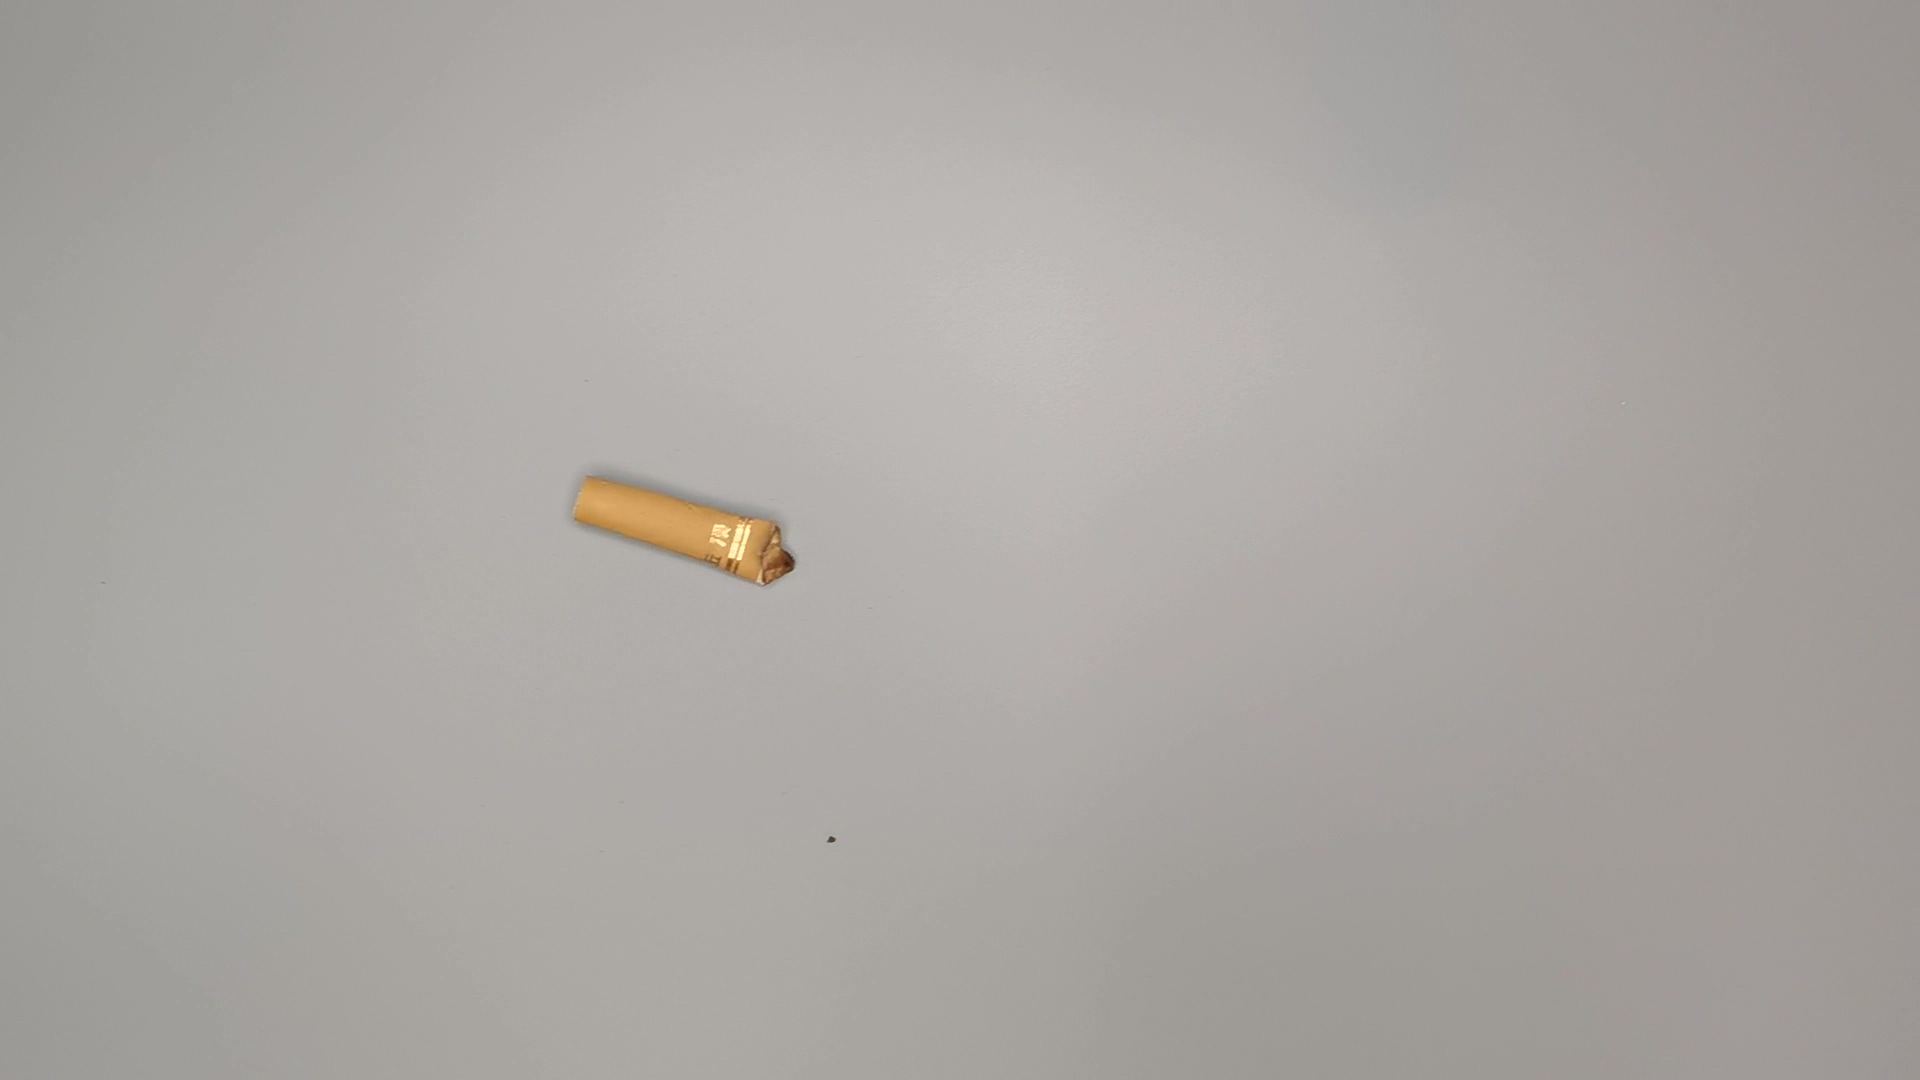cigarette: (562, 468, 810, 585)
